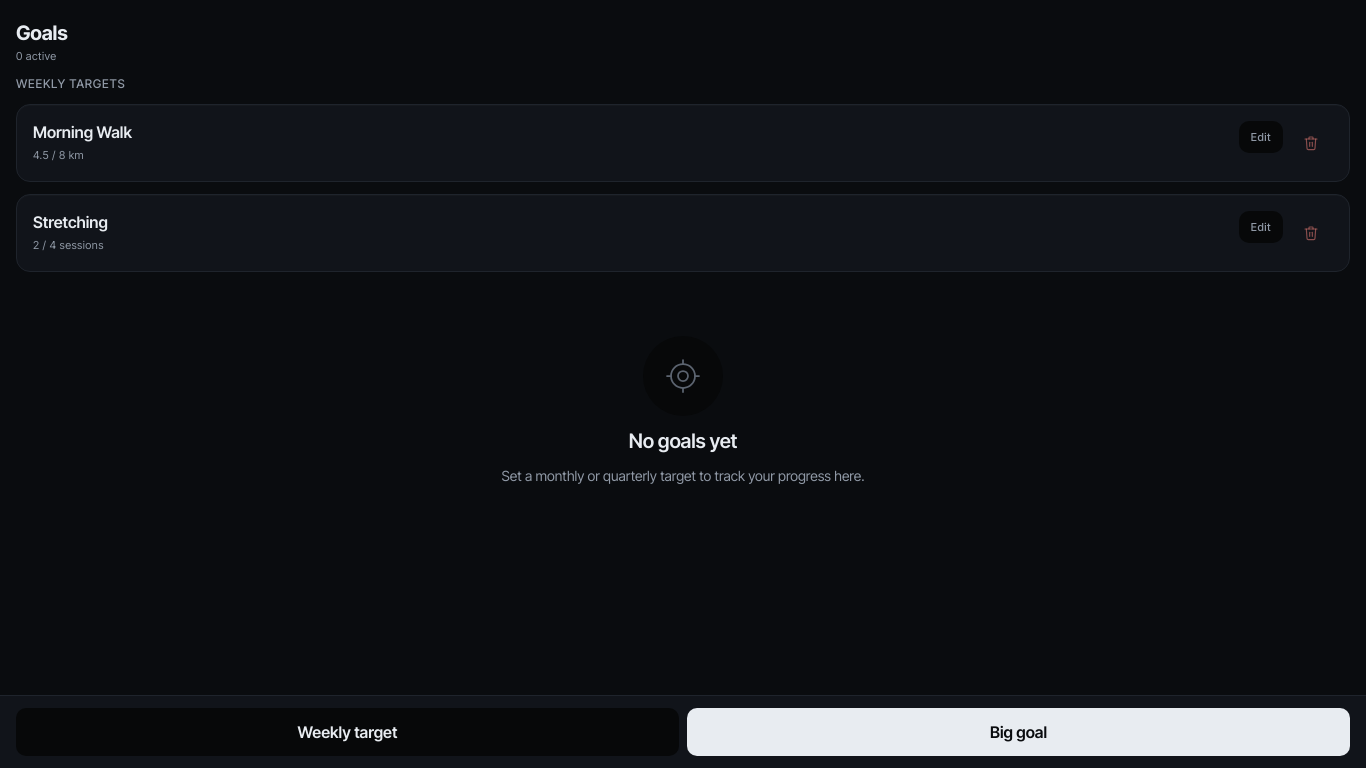
Test case: GoalsScreen — WTL.F2 bottom actions › clicking Weekly target opens the weekly target editor
Click the button "Weekly target": click(348, 732) [16,708,679,756]
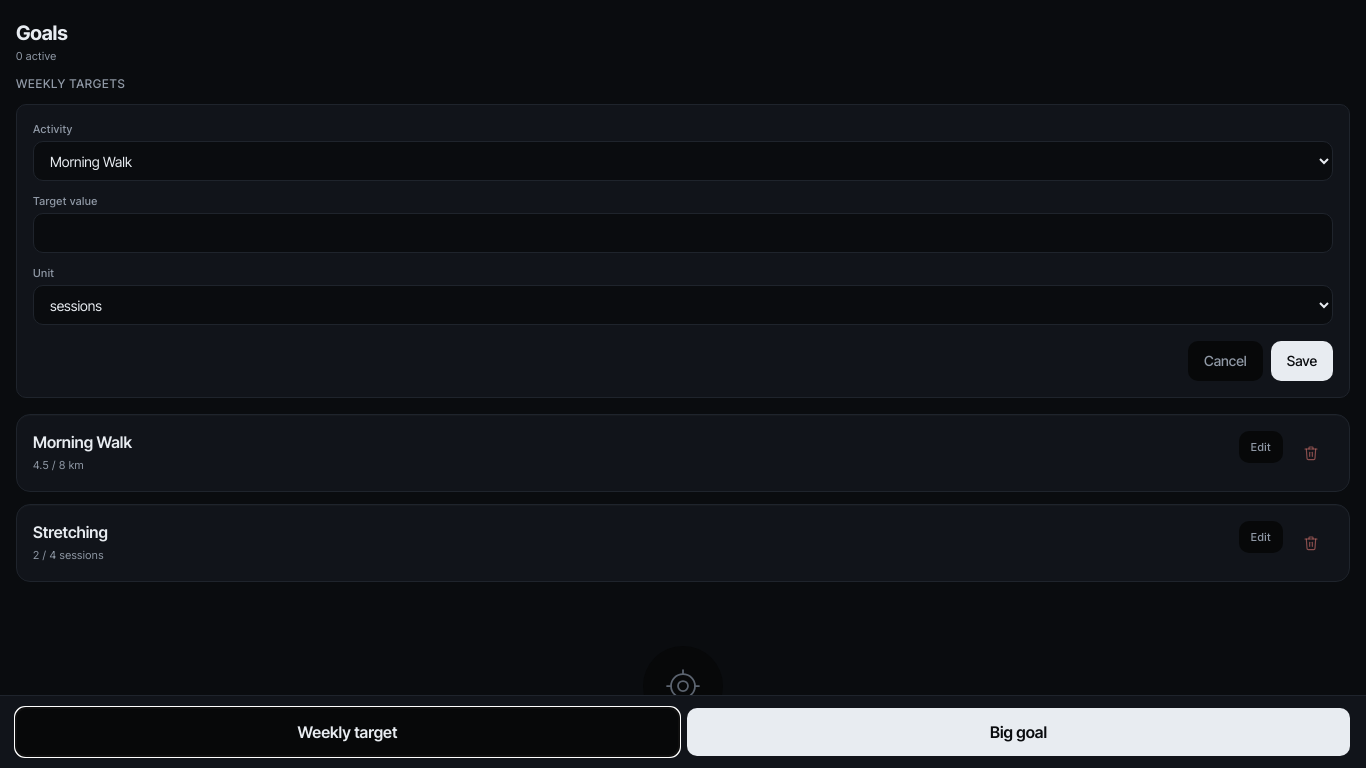
Expected: the element with test id "weekly-target-editor" is shown, [16,104,1350,398]
